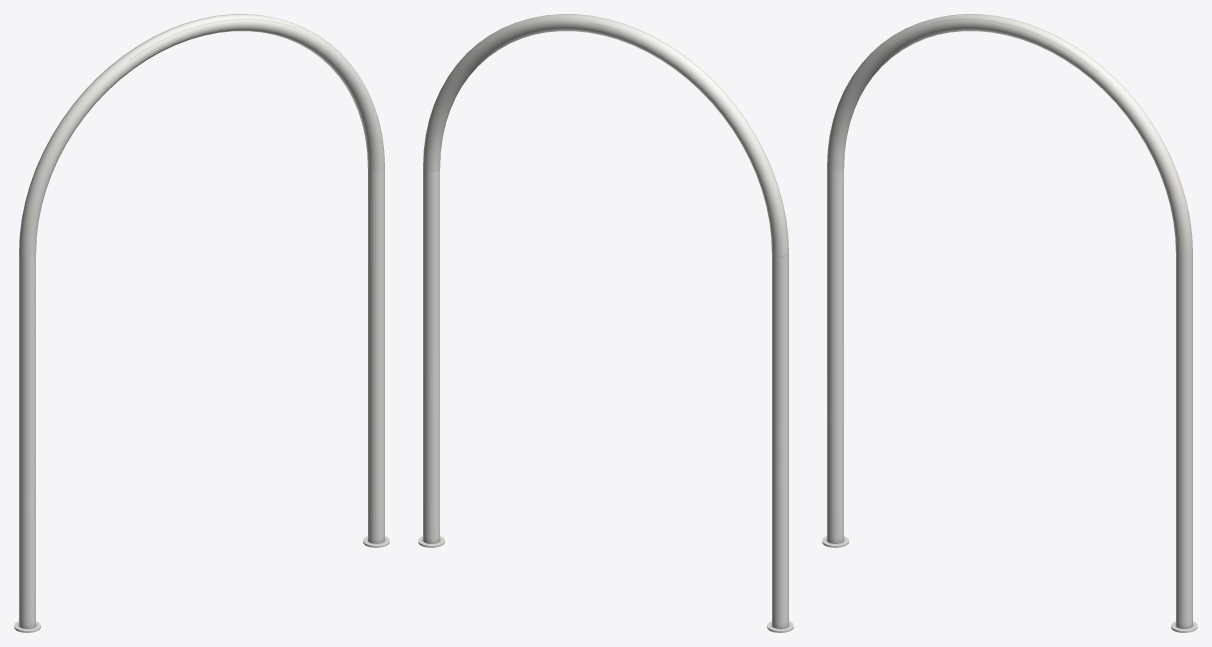
File: arch_frame.glb
3 views of the same model, side by side, from view 1: azimuth 30°, elevation 25°; view 2: azimuth 150°, elevation 25°; view 3: azimuth 330°, elevation 25° (orthographic).
Visible parts, largest first — view 1: arch_frame; view 2: arch_frame; view 3: arch_frame.
Part boxes in pixels (x1,y1,x2,y2): arch_frame: [14, 14, 389, 632]; arch_frame: [418, 14, 793, 632]; arch_frame: [822, 14, 1197, 632].
Bounding box in the file's own units: 2.39 × 3.47 × 0.1499.
Materials: 1 (1 with a texture image).
